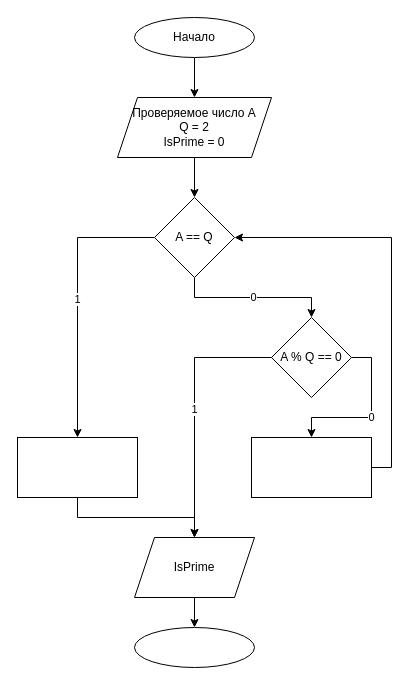
The diagram is 417 pixels wide and 685 high, and some of its shapes have lost their labels. Each missing label, with the centre of its shape:
"IsPrime = 1" belongs at (77,467).
"Q++" belongs at (311,467).
"Конец" belongs at (194,647).
